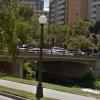Tree: (1, 0, 30, 50)
